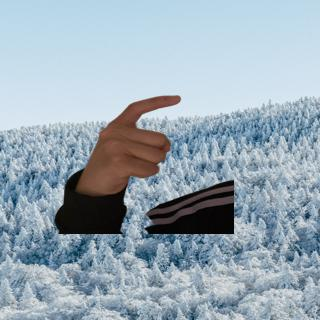WHY: (76, 85, 185, 195)
